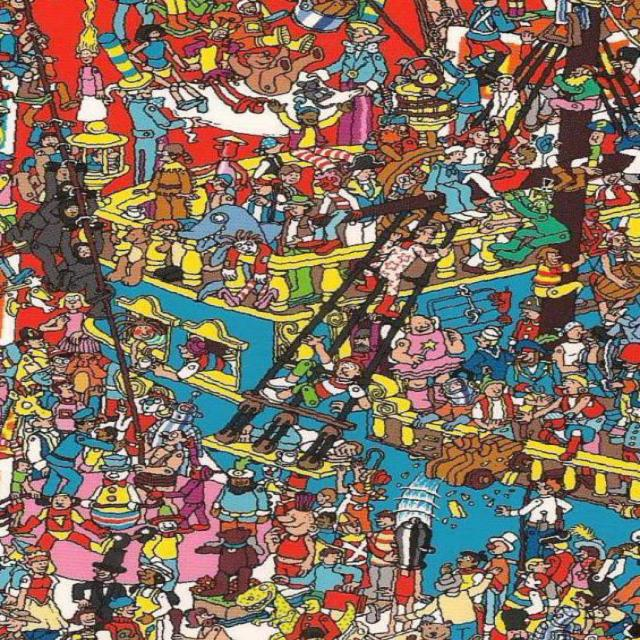waldo: (45, 346, 75, 373)
